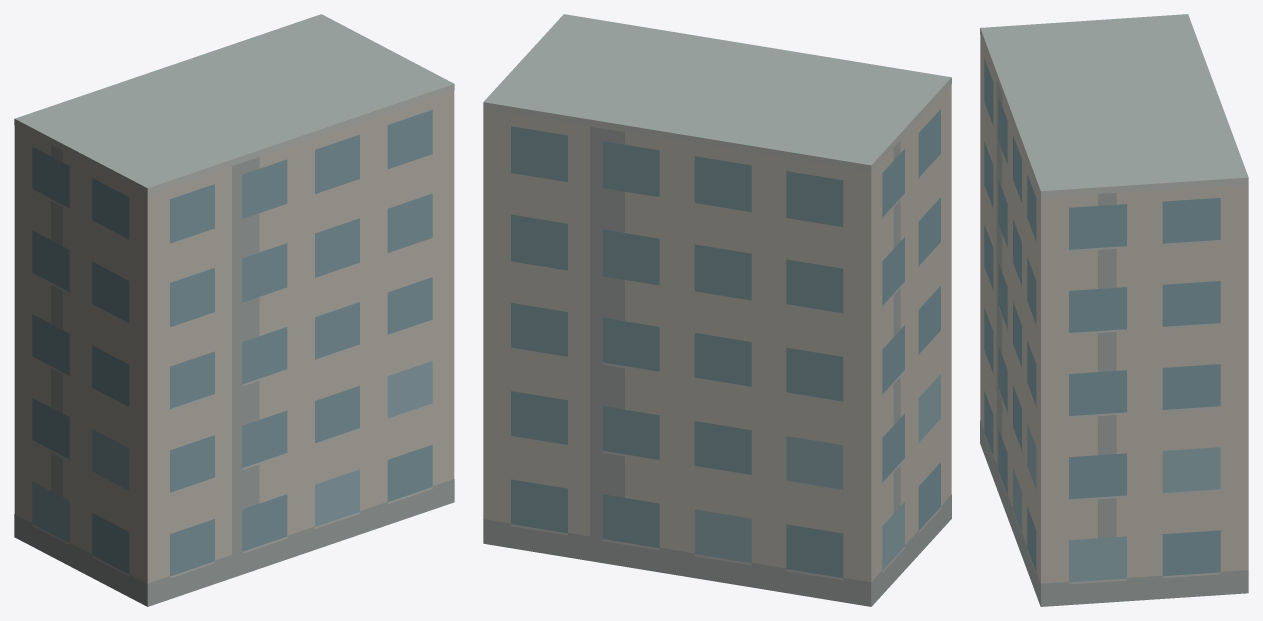
The model's file is residential-6ca43c68-cad5-4d75-b7be-c9c58ff047e9.glb.
3 renders of one model, left to right at view 1: azimuth 30°, elevation 25°; view 2: azimuth 150°, elevation 25°; view 3: azimuth 270°, elevation 25°, orthographic. The views are drawn at different scales.
Visible parts, largest first — view 1: residential-6ca43c68-cad5-4d75-b7be-c9c58ff047e9.tmp; view 2: residential-6ca43c68-cad5-4d75-b7be-c9c58ff047e9.tmp; view 3: residential-6ca43c68-cad5-4d75-b7be-c9c58ff047e9.tmp.
Part boxes in pixels (left/top/right/bottom): residential-6ca43c68-cad5-4d75-b7be-c9c58ff047e9.tmp: left=14, top=14, right=454, bottom=606; residential-6ca43c68-cad5-4d75-b7be-c9c58ff047e9.tmp: left=483, top=14, right=951, bottom=606; residential-6ca43c68-cad5-4d75-b7be-c9c58ff047e9.tmp: left=980, top=14, right=1248, bottom=606.
Size of the model in its own units: 13.96 by 15.25 by 8.94.
